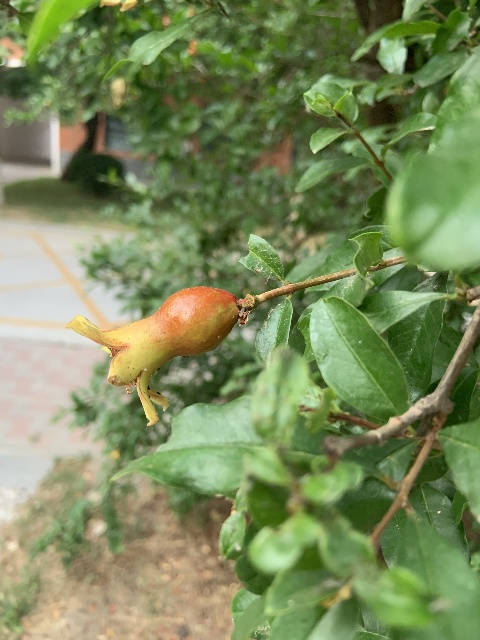early-fruit: (66, 284, 239, 426)
